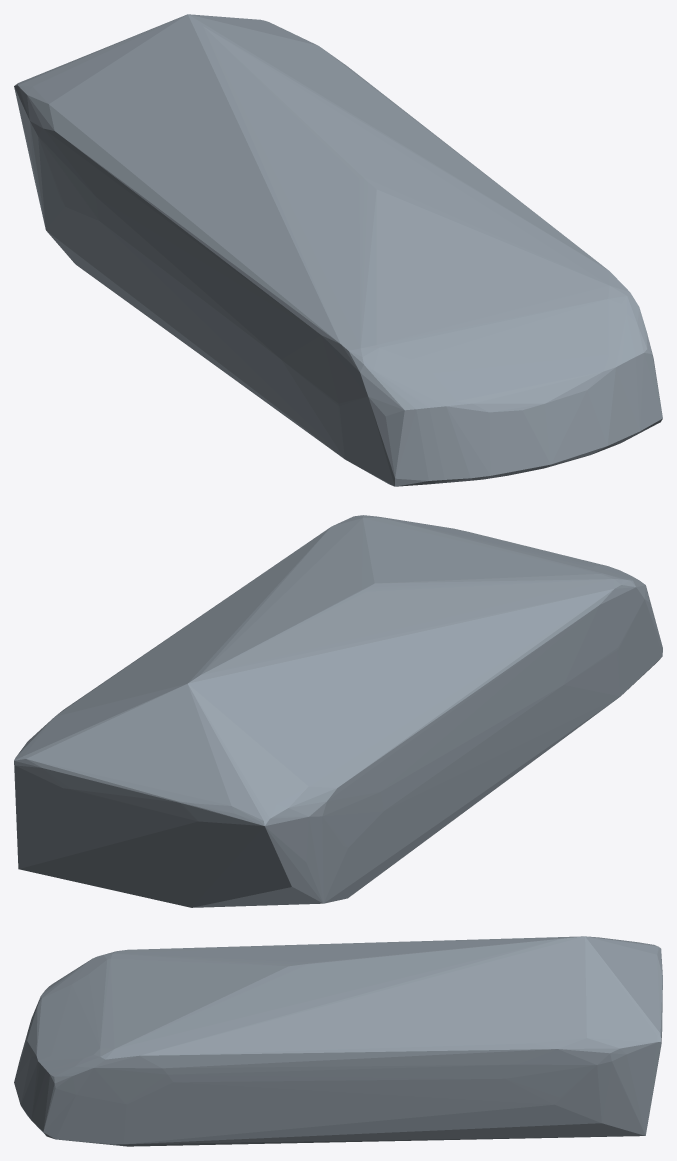
Rendered from endurance-collision.glb.
3 renders of one model, top to bottom at view 1: azimuth 30°, elevation 25°; view 2: azimuth 150°, elevation 25°; view 3: azimuth 270°, elevation 25°, orthographic. The views are drawn at different scales.
Parts seen in each view (by area): view 1: endurance_collision; view 2: endurance_collision; view 3: endurance_collision.
Part boxes in pixels (box(x1,y1,x2,y2)): endurance_collision: box(14, 14, 662, 486); endurance_collision: box(14, 515, 662, 907); endurance_collision: box(14, 936, 662, 1146).
Bounding box in the file's own units: 1.97 × 1.32 × 4.9.
